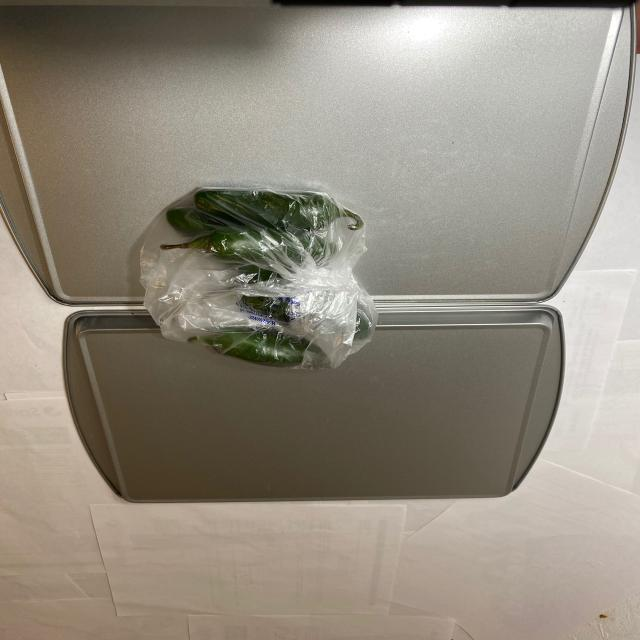chilli: (158, 178, 374, 373)
